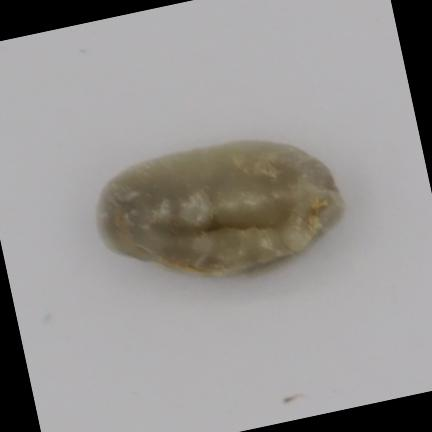cut: (98, 141, 344, 274)
